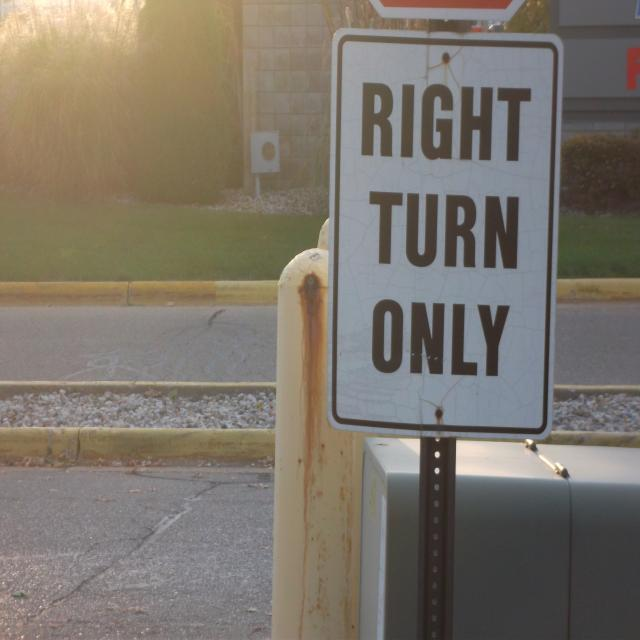regulatory: (328, 17, 563, 443)
